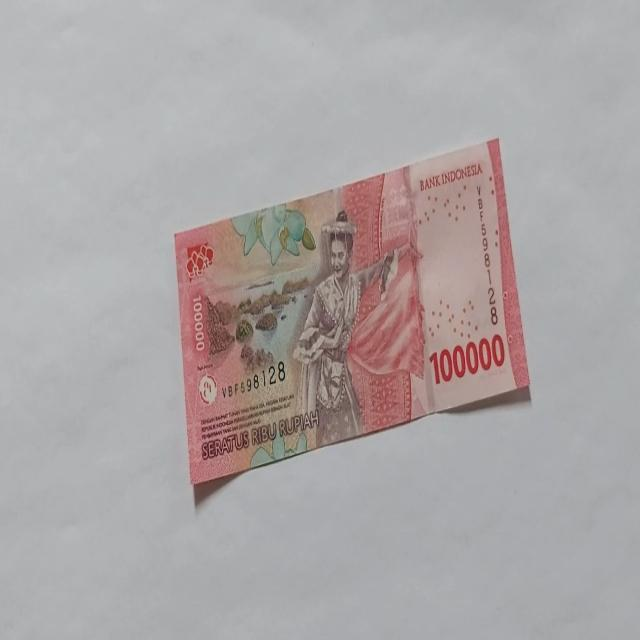seratus ribu rupiah: (173, 136, 531, 486), (292, 208, 404, 446)
